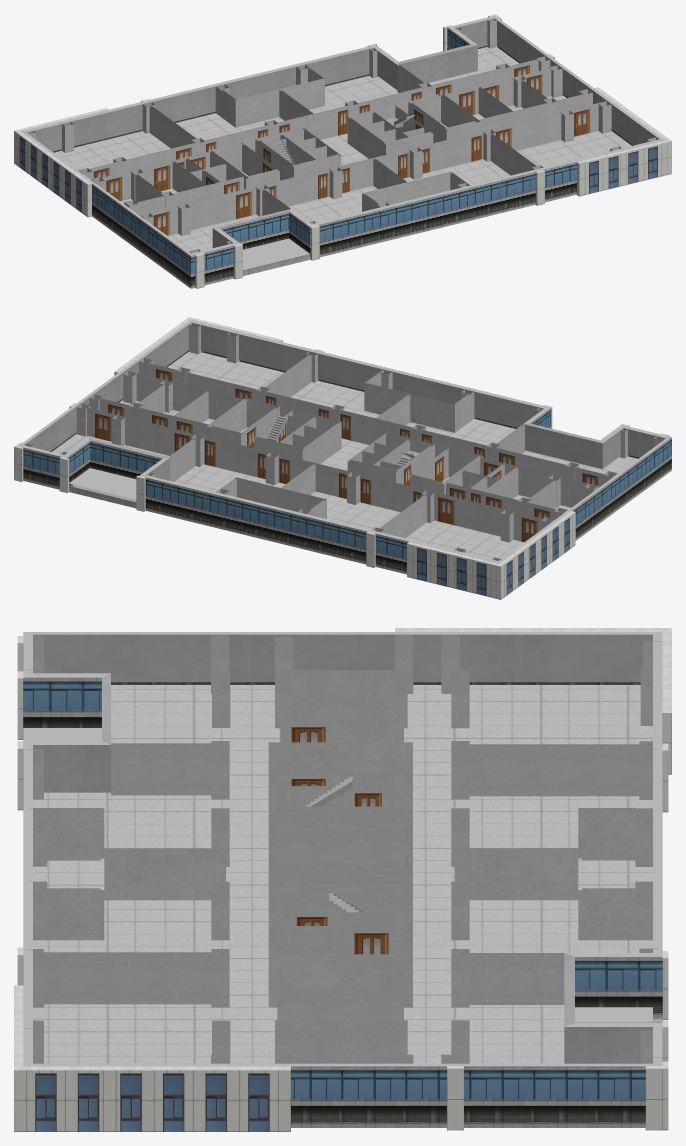
3 views of the same model, one above another, from view 1: azimuth 30°, elevation 25°; view 2: azimuth 150°, elevation 25°; view 3: azimuth 270°, elevation 25° (orthographic). The views are drawn at different scales.
Parts seen in each view (by area): view 1: 16c; view 2: 16c; view 3: 16c.
Part boxes in pixels (x1,y1,x2,y2): 16c: (14,14,671,288); 16c: (14,317,671,599); 16c: (14,628,671,1131).
Size of the model in its own units: 56.65 by 4.56 by 35.63.
Materials: 13 (11 with a texture image).
